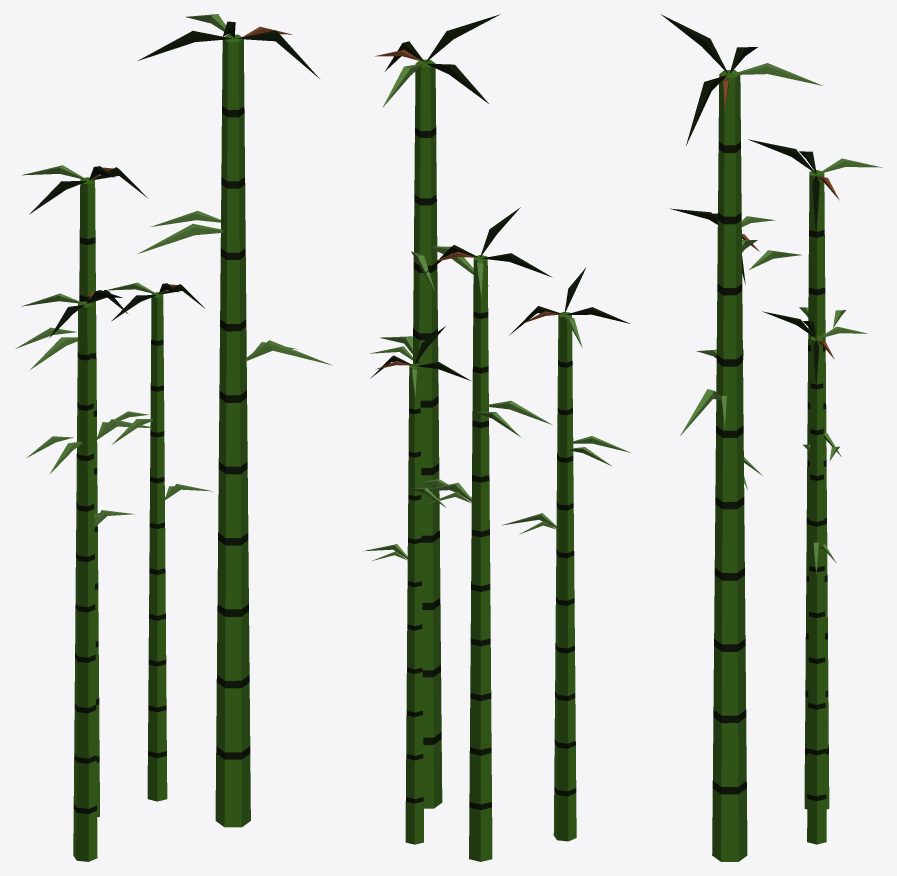
Rendered from bamboo.fbx.
3 views of the same model, side by side, from view 1: azimuth 30°, elevation 25°; view 2: azimuth 150°, elevation 25°; view 3: azimuth 270°, elevation 25° (orthographic). The views are drawn at different scales.
Visible parts, largest first — view 1: Cylinder004; view 2: Cylinder004; view 3: Cylinder004.
Part boxes in pixels (box(x1,y1,x2,y2)): Cylinder004: box(15, 14, 331, 861); Cylinder004: box(364, 14, 630, 861); Cylinder004: box(661, 14, 882, 861).
Size of the model in its own units: 231 by 650 by 160.
